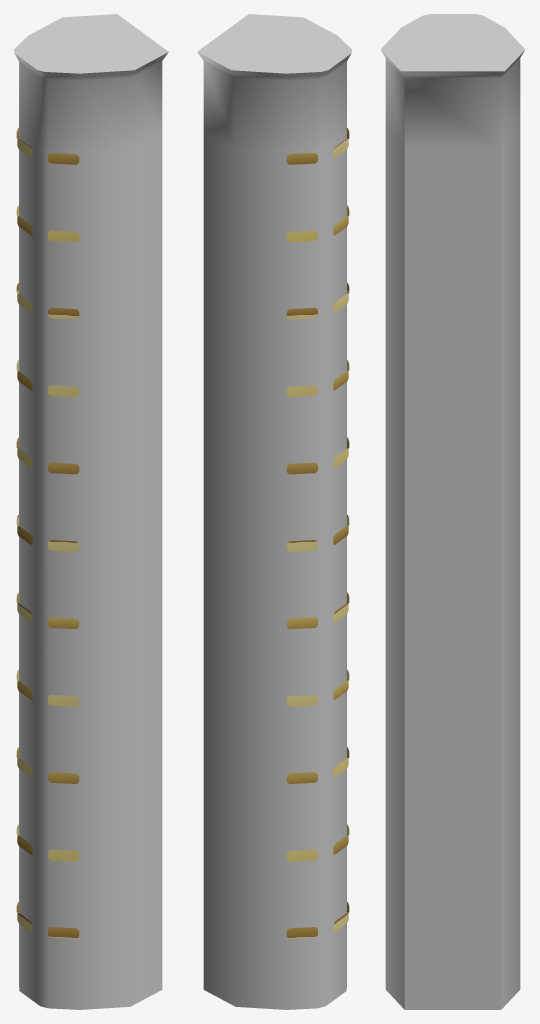
File: fondo_edificioC.fbx
3 views of the same model, side by side, from view 1: azimuth 30°, elevation 25°; view 2: azimuth 150°, elevation 25°; view 3: azimuth 270°, elevation 25° (orthographic).
Parts seen in each view (by area): view 1: edificioA.002; view 2: edificioA.002; view 3: edificioA.002.
Boxes of the visible parts, box(x1,y1,x2,y2) form: edificioA.002: box(14, 14, 168, 1009); edificioA.002: box(197, 14, 351, 1009); edificioA.002: box(380, 14, 525, 1009).
Bounding box in the file's own units: 426 × 3232 × 451.
